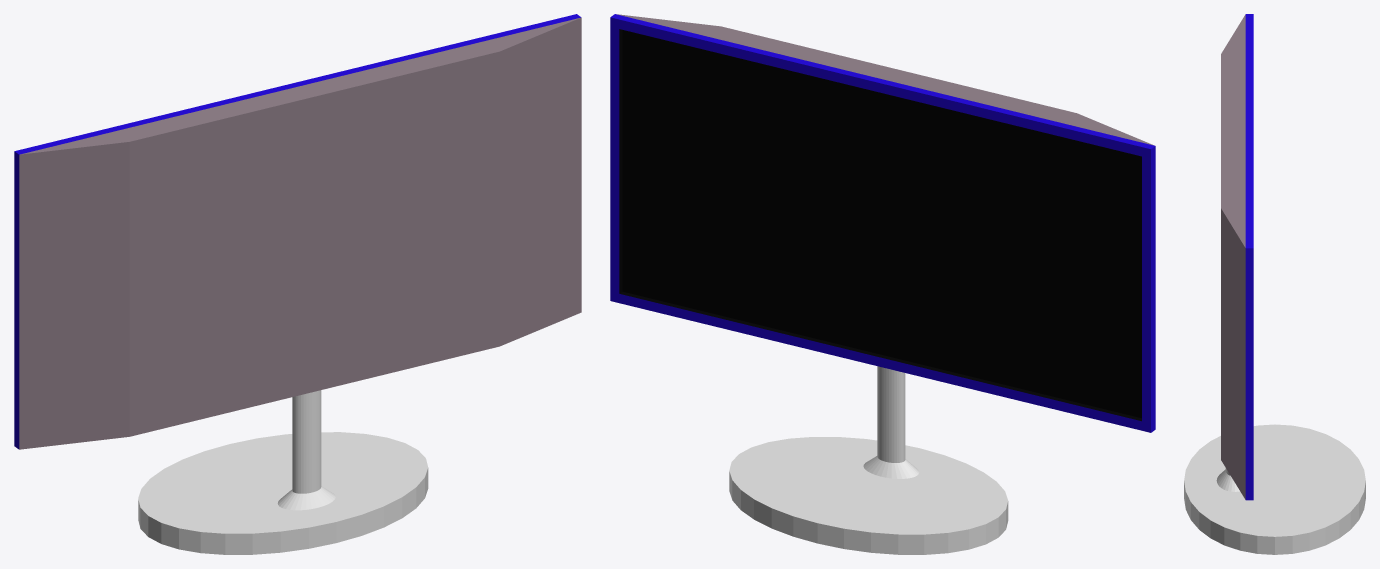
File: television.fbx
3 views of the same model, side by side, from view 1: azimuth 30°, elevation 25°; view 2: azimuth 150°, elevation 25°; view 3: azimuth 270°, elevation 25° (orthographic). The views are drawn at different scales.
Visible parts, largest first — view 1: Cube, Circle; view 2: Cube, Circle; view 3: Circle, Cube.
Part boxes in pixels (left/top/right/bottom): Cube: left=14, top=14, right=581, bottom=449; Circle: left=138, top=390, right=428, bottom=554; Cube: left=610, top=14, right=1155, bottom=432; Circle: left=729, top=366, right=1008, bottom=554; Circle: left=1184, top=424, right=1365, bottom=554; Cube: left=1221, top=14, right=1253, bottom=500.
Bounding box in the file's own units: 834 × 610 × 273.
